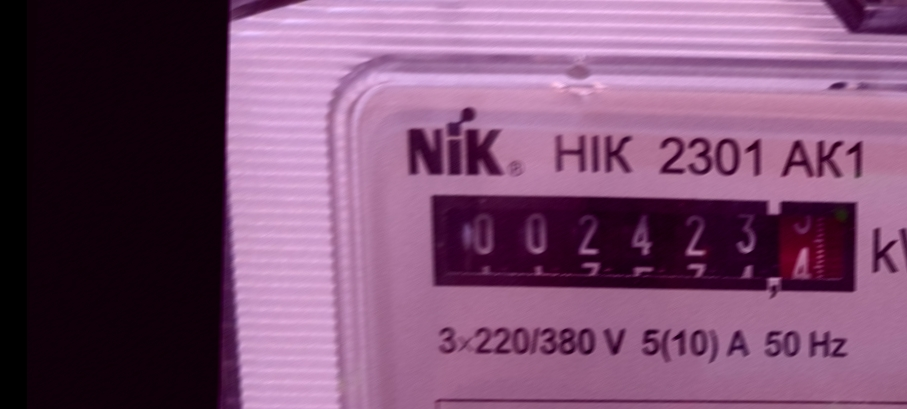0: (470, 207, 498, 255), (523, 208, 549, 254)
2: (575, 208, 602, 255), (682, 210, 707, 256)
3: (734, 208, 758, 254), (792, 210, 814, 233)
4: (629, 209, 653, 255), (789, 241, 815, 279)
screen: (418, 177, 871, 307)
